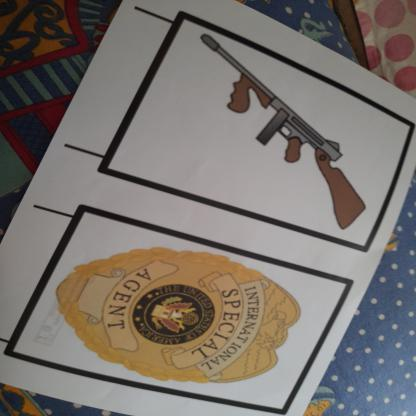Bootlegger: (182, 28, 367, 239)
G-man: (21, 246, 307, 388)
